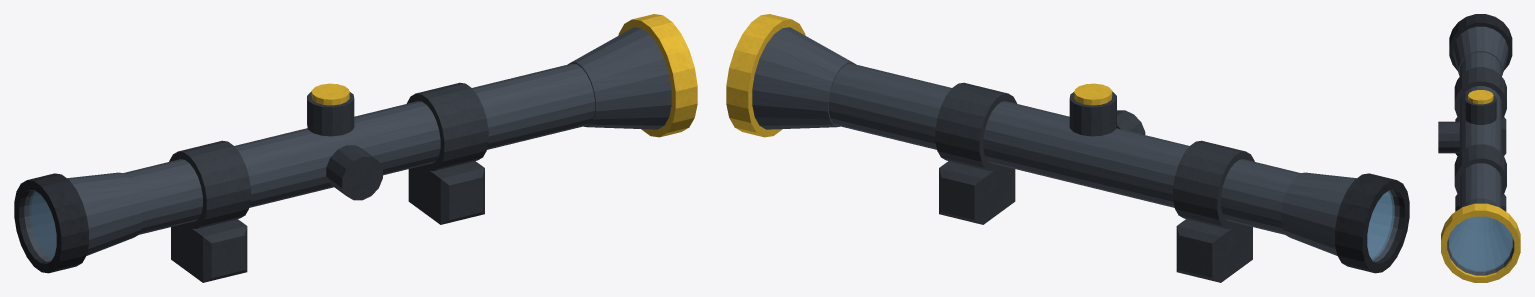
The model's file is sight_scope_v2.glb.
3 renders of one model, left to right at view 1: azimuth 30°, elevation 25°; view 2: azimuth 150°, elevation 25°; view 3: azimuth 270°, elevation 25°, orthographic. The views are drawn at different scales.
Parts seen in each view (by area): view 1: sight_scope_mesh; view 2: sight_scope_mesh; view 3: sight_scope_mesh.
Part boxes in pixels (x1,y1,x2,y2): sight_scope_mesh: (14,14,697,282); sight_scope_mesh: (726,14,1409,282); sight_scope_mesh: (1438,14,1520,282).
Size of the model in its own units: 0.228 by 0.05 by 0.0388.
7 materials, 5 textured.
